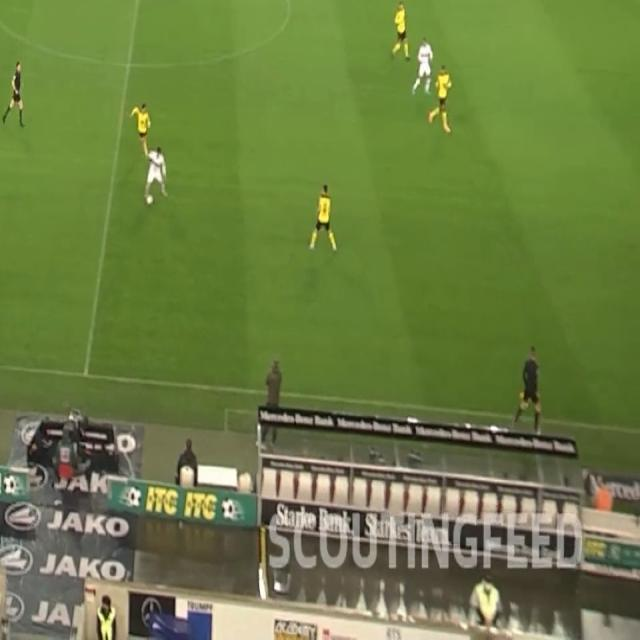ball: (146, 193, 154, 207)
